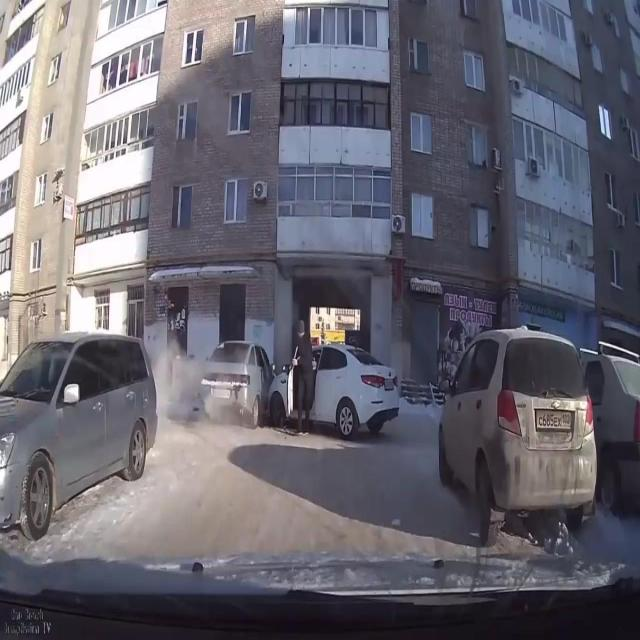moderate: (200, 321, 403, 441)
